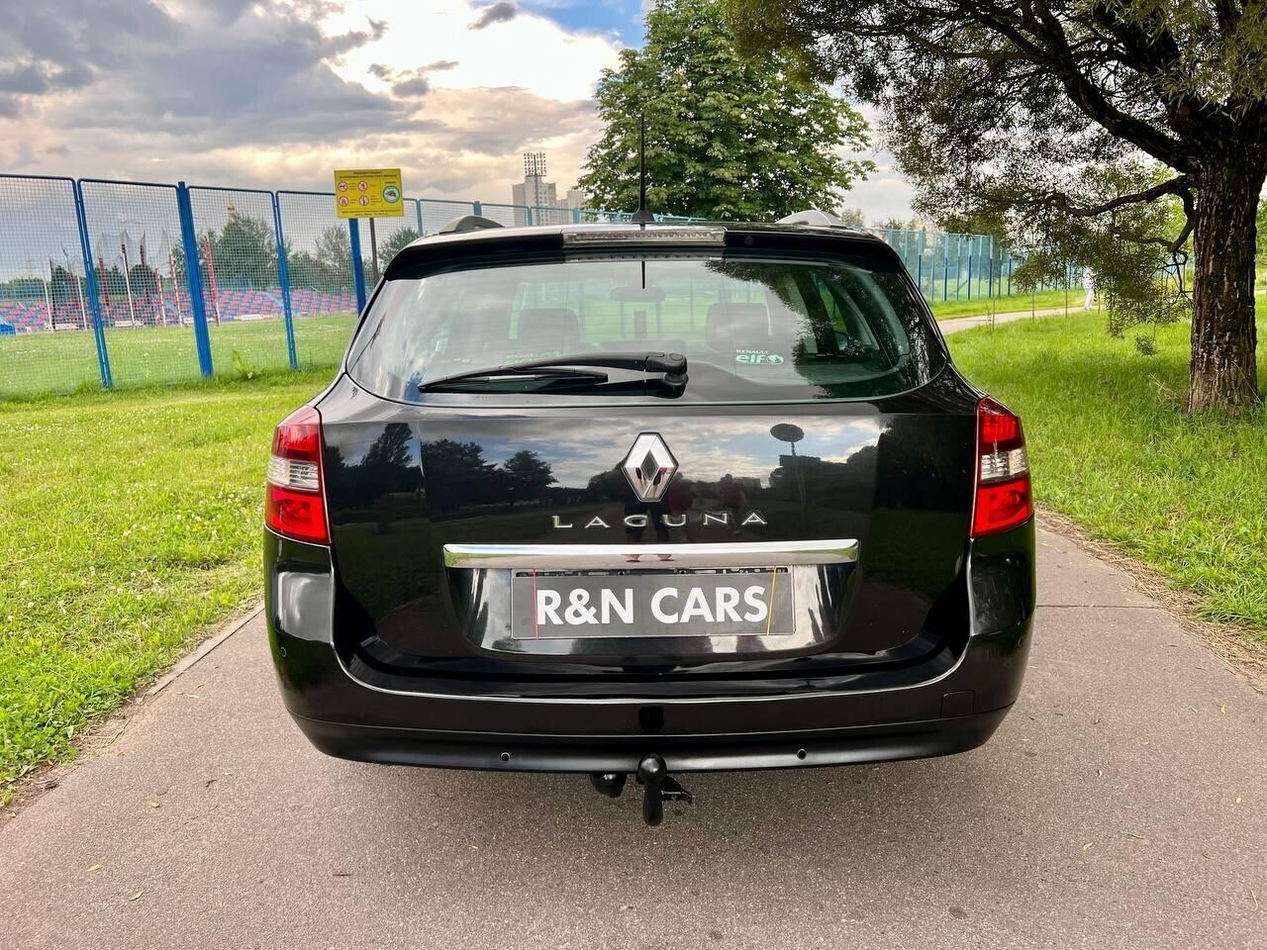Laguna_2010-2015: (259, 218, 1044, 811)
